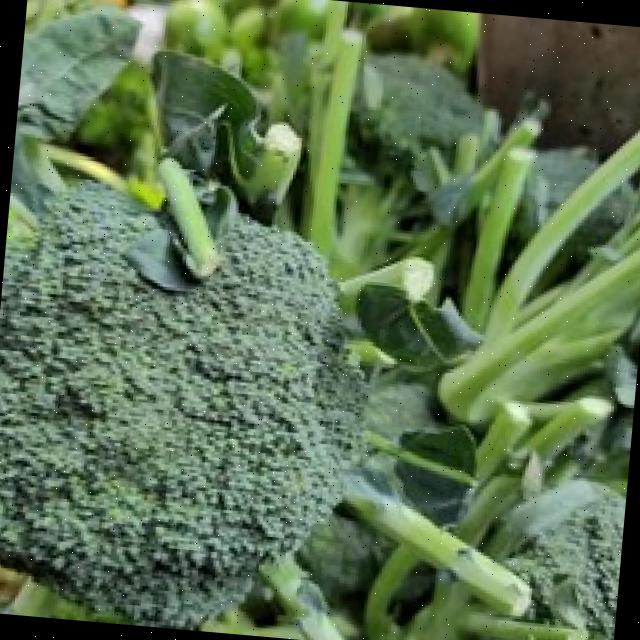Broccoli: (0, 182, 363, 630), (0, 182, 362, 629)
